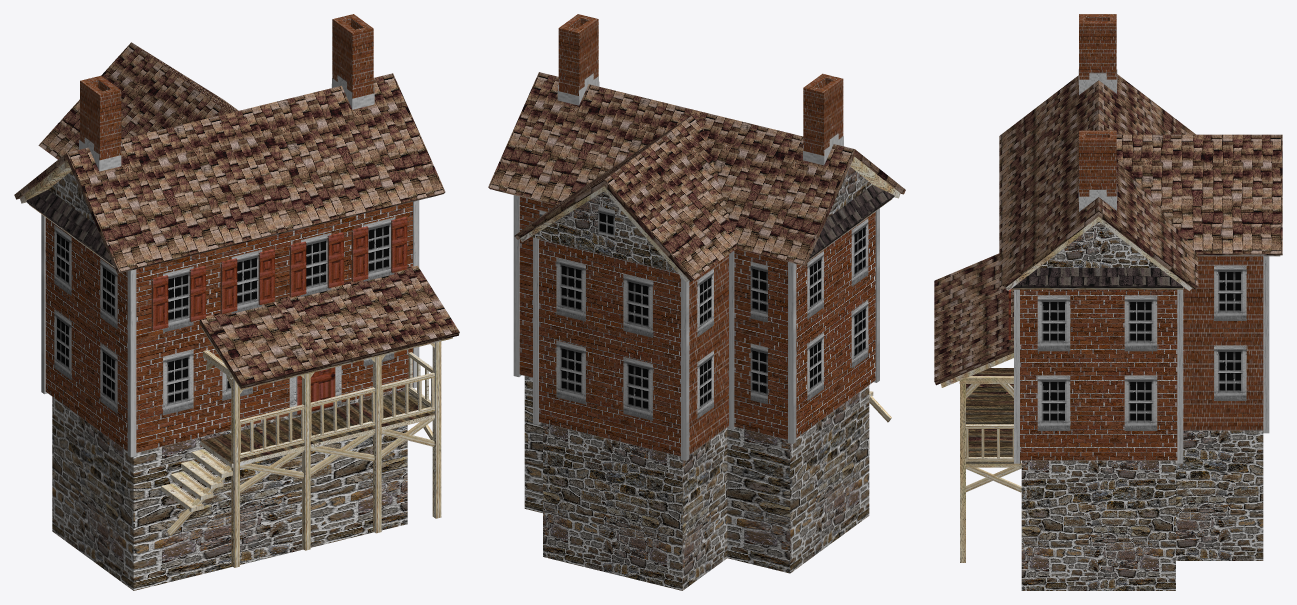
File: brit_house_2.dae
3 views of the same model, side by side, from view 1: azimuth 30°, elevation 25°; view 2: azimuth 150°, elevation 25°; view 3: azimuth 270°, elevation 25° (orthographic). The views are drawn at different scales.
Parts seen in each view (by area): view 1: BRITHouse2; view 2: BRITHouse2; view 3: BRITHouse2.
Boxes of the visible parts, x1=… form: BRITHouse2: x1=14, y1=14, x2=459, y2=590; BRITHouse2: x1=488, y1=14, x2=905, y2=590; BRITHouse2: x1=934, y1=14, x2=1282, y2=590.
Size of the model in its own units: 16.49 by 16.12 by 22.91.
